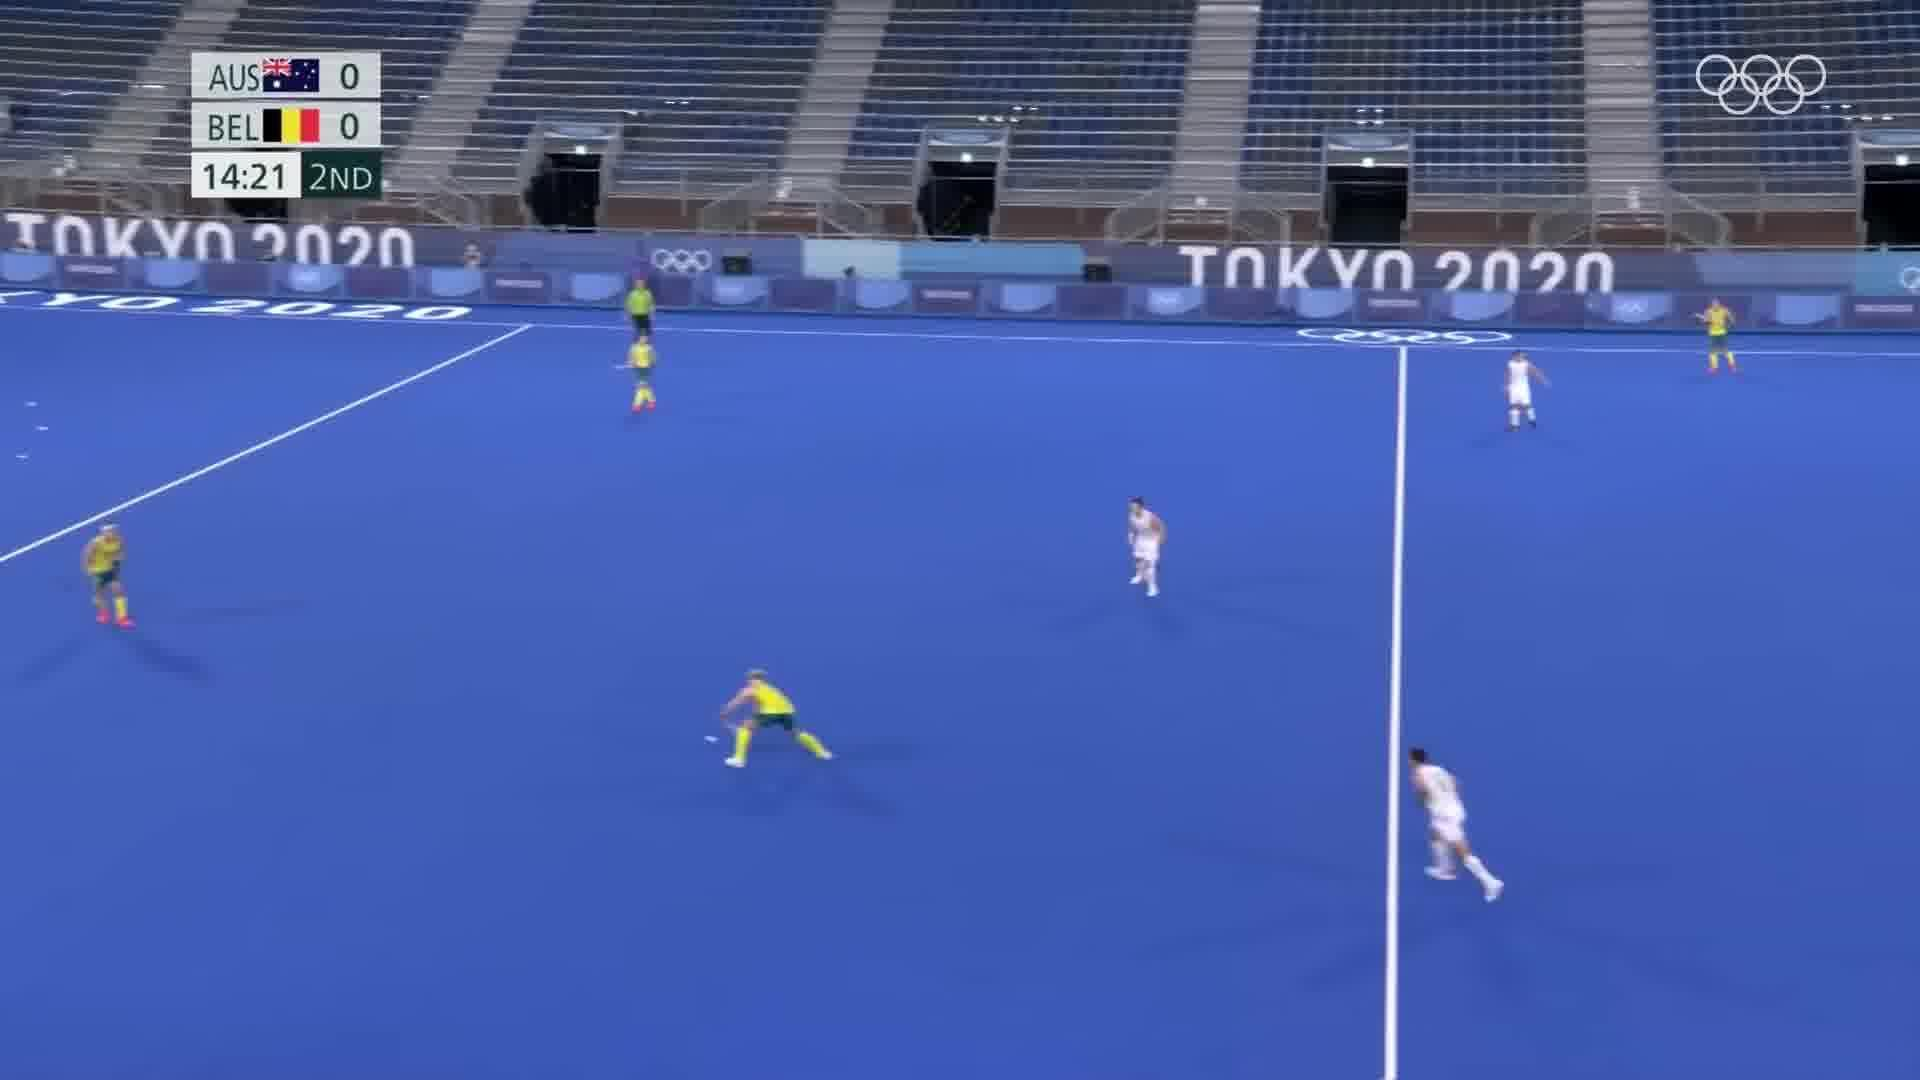ball: (688, 719, 724, 748)
